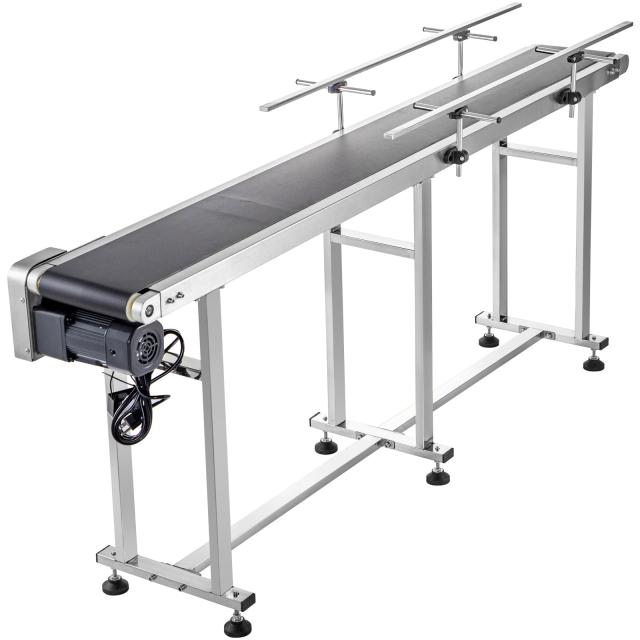conveyor: (11, 19, 623, 632)
